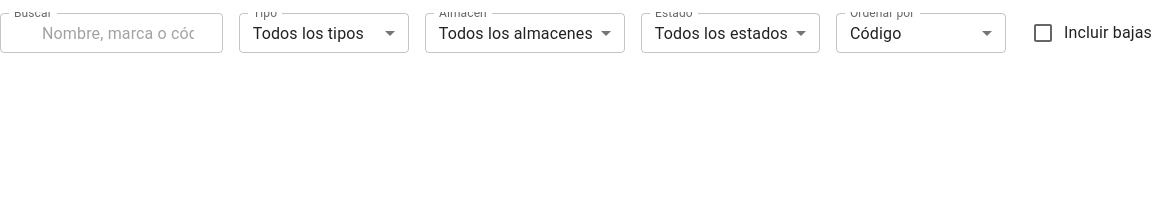
Test: FiltrosInventario › ofrece el orden por codigo y las dos direcciones del nombre
Click the dropdown named "ordenar por": x=876, y=33 [850,24,902,42]
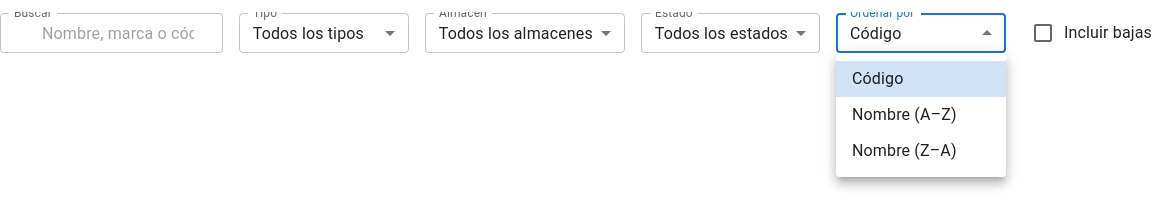
Check: the option "Código" is shown, box [836,61,1006,97]
Check: the option "Nombre (A–Z)" is shown, box [852,105,957,124]
Check: the option "Nombre (Z–A)" is shown, box [852,141,957,160]
